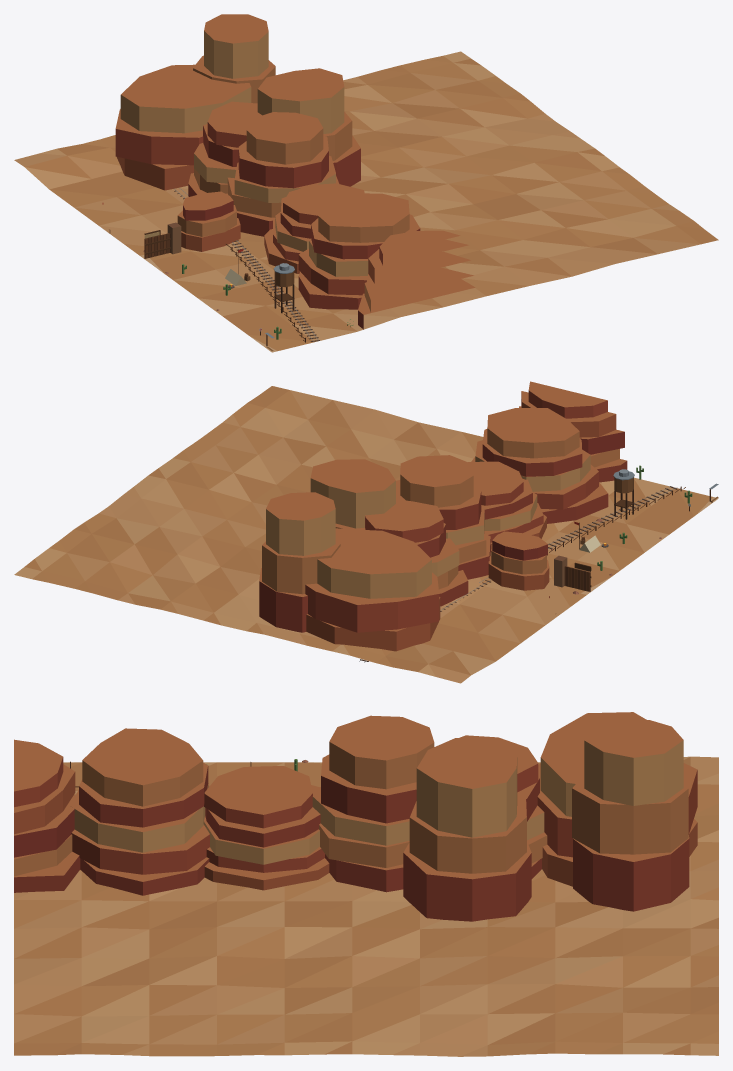
3 views of the same model, one above another, from view 1: azimuth 30°, elevation 25°; view 2: azimuth 150°, elevation 25°; view 3: azimuth 270°, elevation 25° (orthographic). The views are drawn at different scales.
Visible parts, largest first — view 1: baked; view 2: baked; view 3: baked.
Boxes of the visible parts, bbox=[...] form: baked: bbox=[14, 14, 718, 352]; baked: bbox=[14, 381, 718, 683]; baked: bbox=[14, 712, 718, 1056].
Bounding box in the file's own units: 125 × 29.76 × 125.
